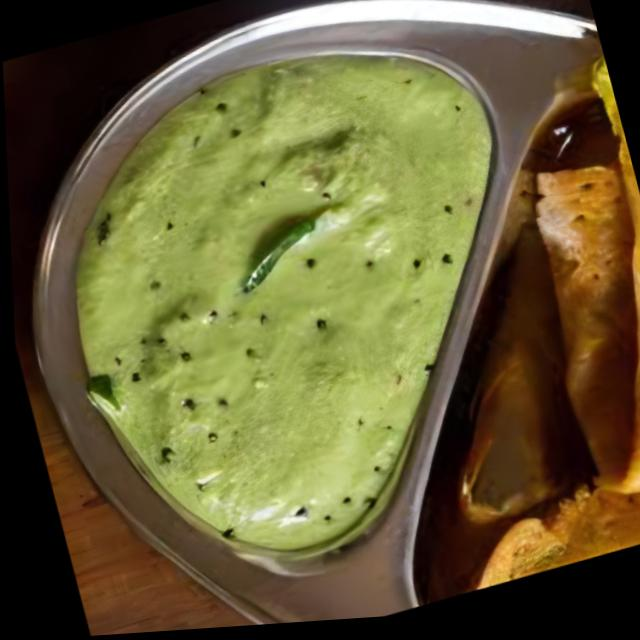GREEN CHUTNEY: (76, 55, 488, 549)
